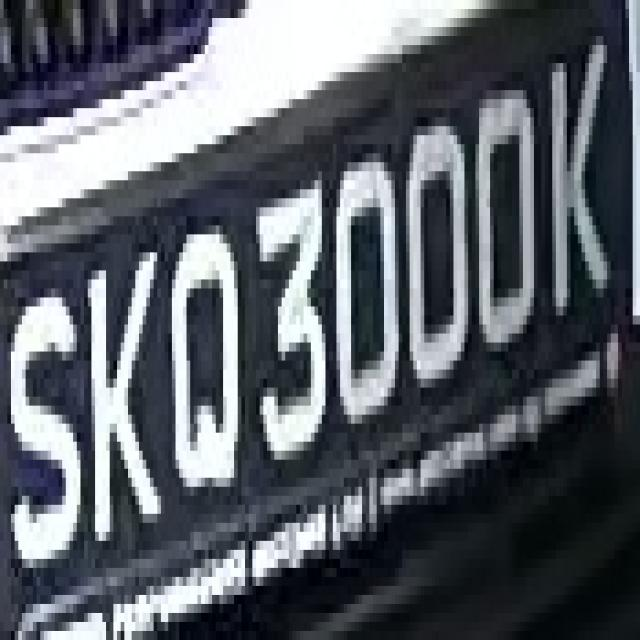0: (468, 72, 538, 370), (336, 126, 398, 433), (406, 135, 472, 397)
3: (252, 180, 329, 478)
K: (541, 45, 618, 307)
Q: (172, 216, 252, 523)
S: (4, 270, 76, 595)
